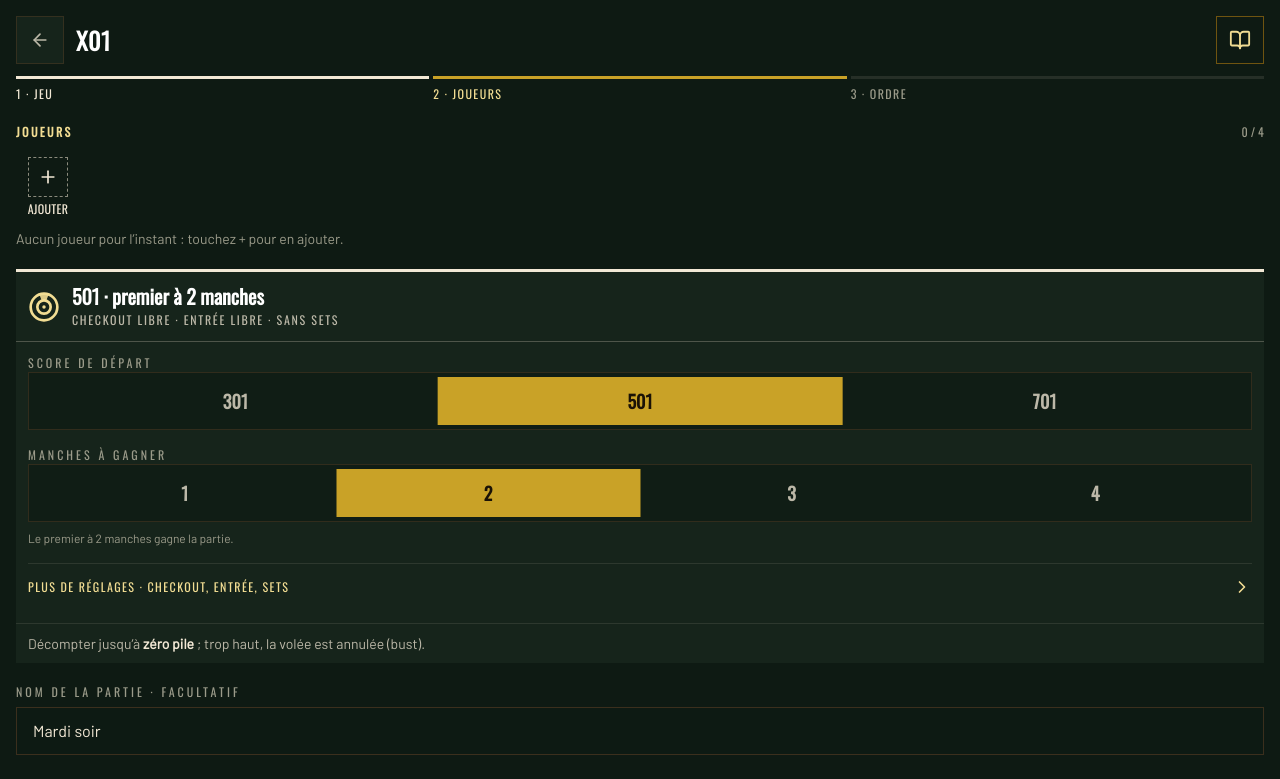
Scenario: Genre — la boîte « Nouveau joueur » › montre une ligne repliée « Non précisé · Modifier », sans les trois cases
Click the button with aria-label "Ajouter un joueur". click: click(48, 187)
box: [16,157,80,217]
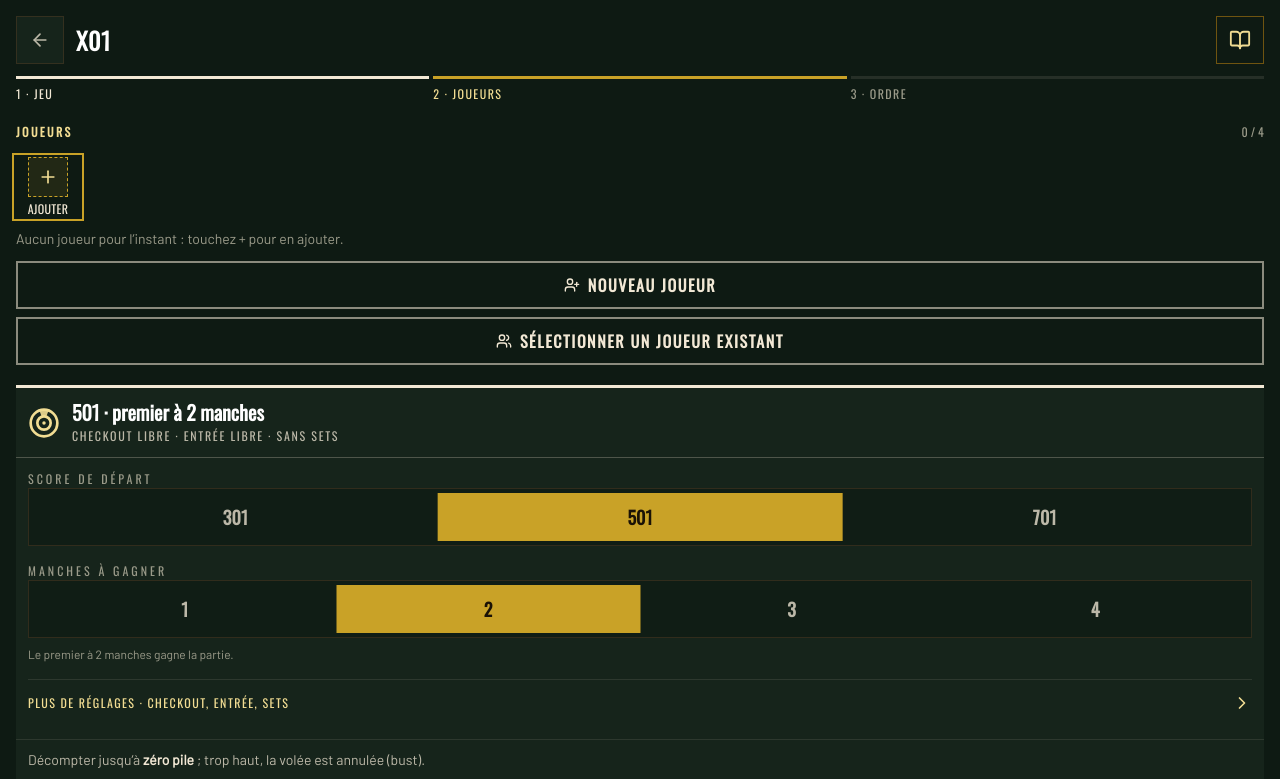
Click the button "Nouveau joueur". click: click(640, 285)
box: [16,261,1264,309]
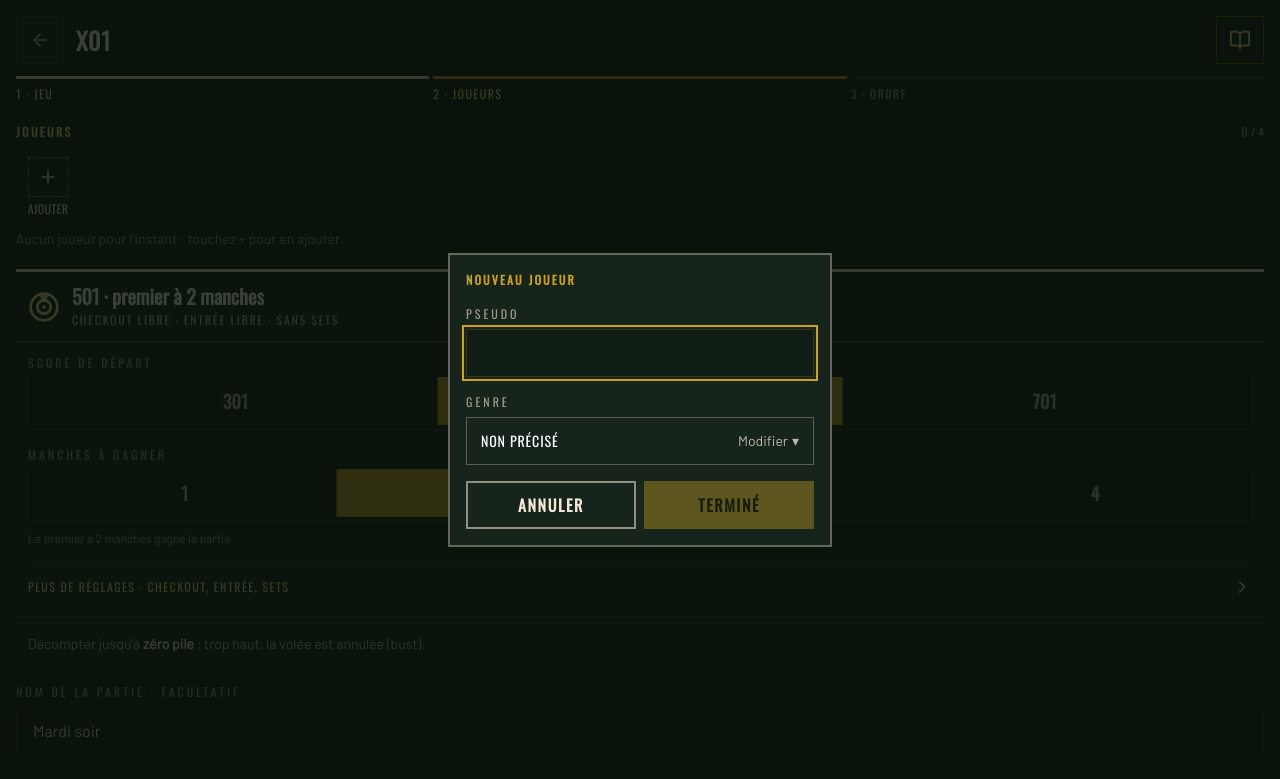
Expected: the button named "Genre Non précisé" shows "Modifier", [466,417,814,465]
